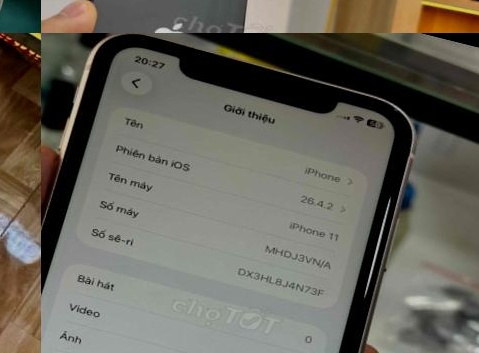scratch: (53, 0, 429, 151)
